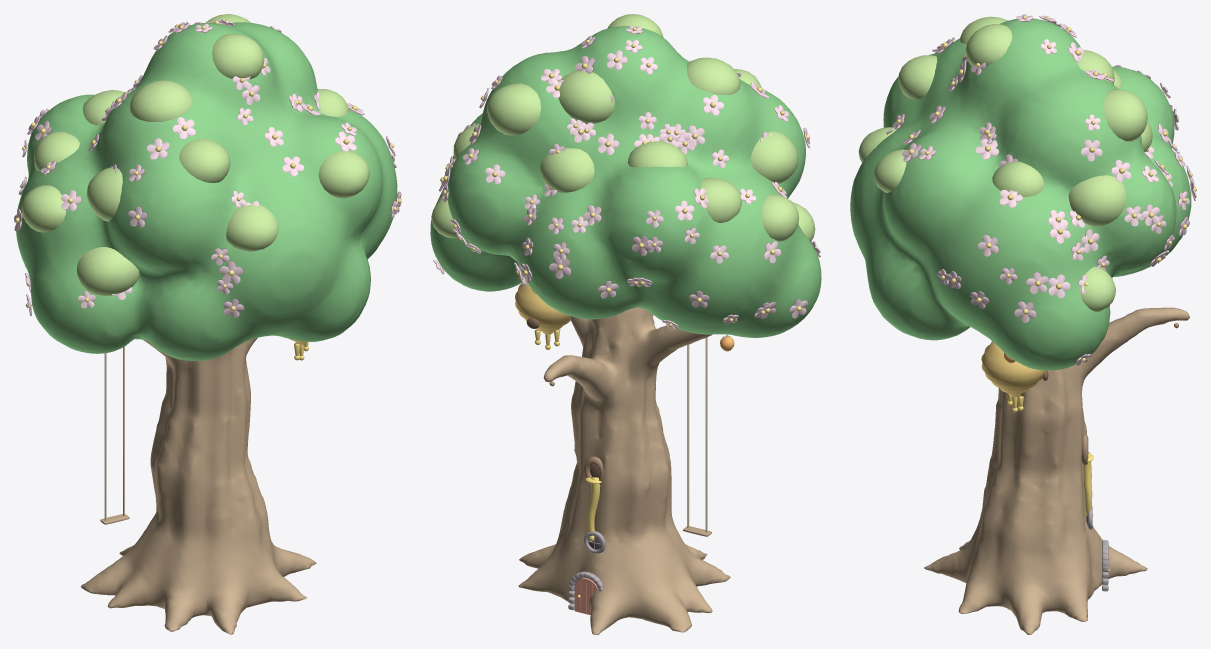
File: HoneyOak.glb
3 renders of one model, left to right at view 1: azimuth 30°, elevation 25°; view 2: azimuth 150°, elevation 25°; view 3: azimuth 270°, elevation 25°, orthographic.
Parts seen in each view (by area): view 1: Leaves, Trunk, LeavesLight, Blossoms, Pollen, Rope; view 2: Leaves, Trunk, LeavesLight, Blossoms, Pollen, Hive, Rope, Honey, Stone, Door; view 3: Leaves, Trunk, LeavesLight, Blossoms, Hive, Pollen, Honey.
Boxes of the visible parts, <box> form: Leaves: <box>16,22,397,360</box>; Trunk: <box>80,338,316,634</box>; LeavesLight: <box>21,14,369,295</box>; Blossoms: <box>14,19,401,317</box>; Pollen: <box>14,20,401,311</box>; Rope: <box>104,346,124,520</box>; Leaves: <box>430,26,821,337</box>; Trunk: <box>518,307,730,634</box>; LeavesLight: <box>431,14,815,241</box>; Blossoms: <box>433,25,820,329</box>; Pollen: <box>437,27,817,597</box>; Hive: <box>515,281,570,334</box>; Rope: <box>536,294,730,532</box>; Honey: <box>534,329,601,541</box>; Stone: <box>568,531,605,610</box>; Door: <box>574,577,597,614</box>; Leaves: <box>850,18,1191,370</box>; Trunk: <box>924,307,1189,634</box>; LeavesLight: <box>858,16,1152,311</box>; Blossoms: <box>886,14,1196,365</box>; Hive: <box>981,341,1045,396</box>; Pollen: <box>896,15,1196,571</box>; Honey: <box>1007,393,1093,517</box>.
Size of the model in its own units: 43.43 by 64.7 by 36.03.
